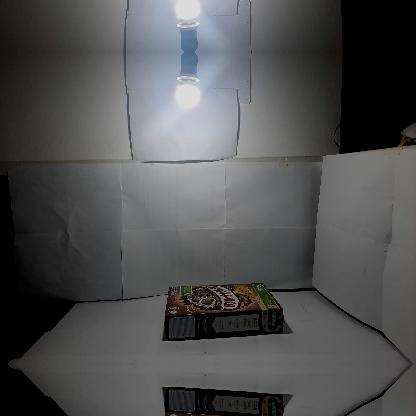Koko-Krunch: (164, 283, 284, 341), (164, 387, 284, 415)
